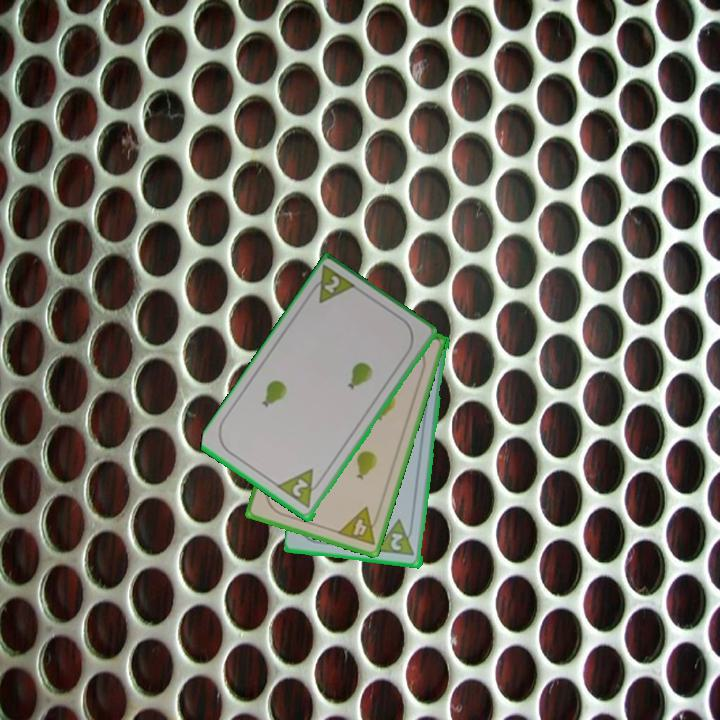2p: (305, 262, 360, 307), (275, 465, 327, 512), (374, 516, 418, 559)
4p: (334, 503, 383, 548)
